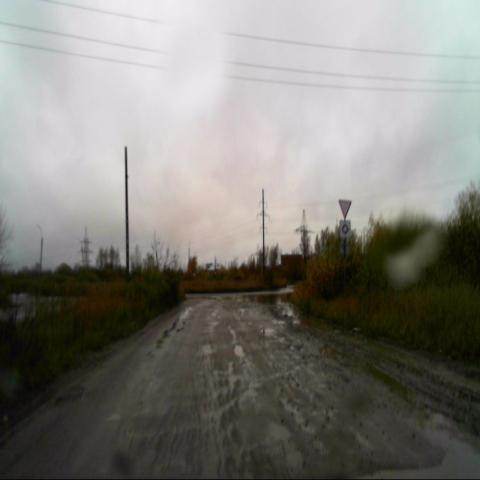8_13_1: (340, 219, 352, 239)
